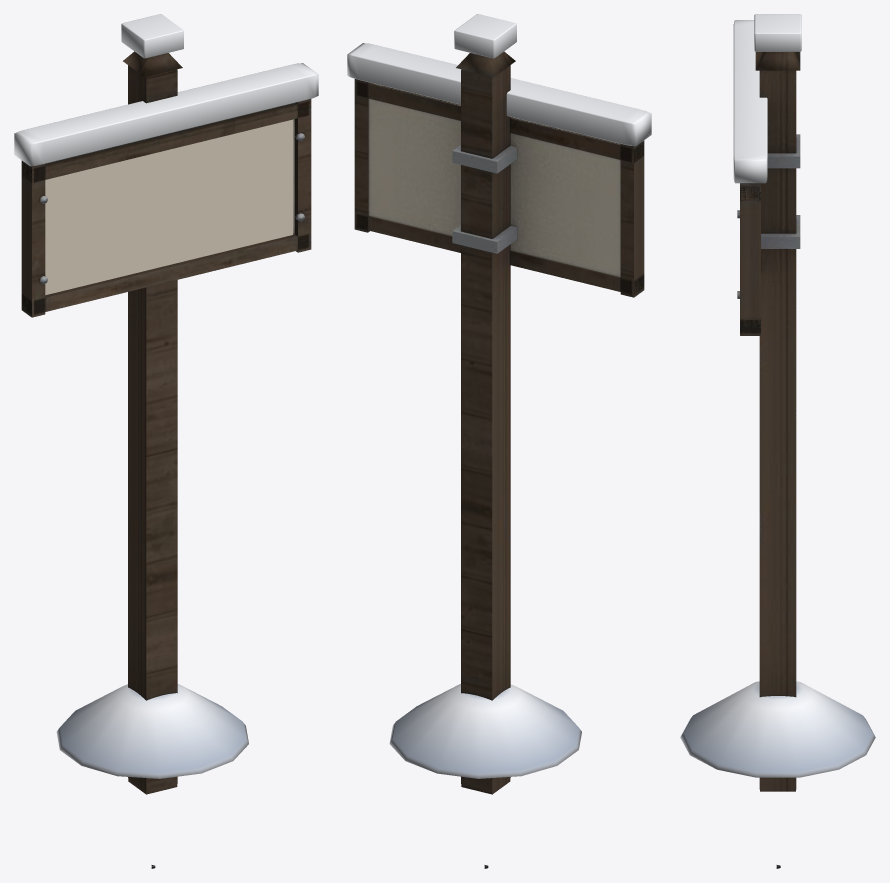
The model's file is sign_run.glb.
3 views of the same model, side by side, from view 1: azimuth 30°, elevation 25°; view 2: azimuth 150°, elevation 25°; view 3: azimuth 270°, elevation 25° (orthographic).
Visible parts, largest first — view 1: sign_run, sign_run_paint, sign_run_snow; view 2: sign_run, sign_run_snow; view 3: sign_run, sign_run_snow.
Part boxes in pixels (x1=…): sign_run: x1=21, y1=51, x2=311, y2=868; sign_run_paint: x1=45, y1=119, x2=292, y2=295; sign_run_snow: x1=14, y1=14, x2=318, y2=778; sign_run: x1=354, y1=51, x2=644, y2=868; sign_run_snow: x1=347, y1=14, x2=651, y2=778; sign_run: x1=737, y1=52, x2=800, y2=868; sign_run_snow: x1=680, y1=14, x2=875, y2=777.
Size of the model in its own units: 1.28 by 3.57 by 0.7482.
3 materials, 1 textured.
